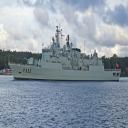Fragata: (9, 24, 123, 83)
